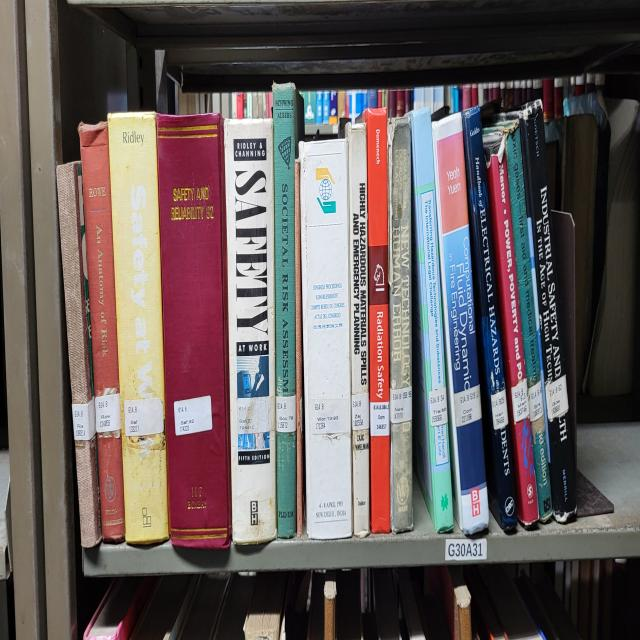Book: (156, 114, 231, 547), (108, 111, 169, 544), (432, 114, 489, 536), (519, 100, 576, 522), (462, 106, 518, 533), (224, 119, 276, 544), (299, 141, 352, 538), (486, 154, 539, 528), (79, 122, 125, 541), (506, 127, 552, 522), (410, 108, 452, 530), (56, 162, 101, 547), (272, 84, 304, 538), (345, 122, 370, 538), (389, 119, 414, 533), (366, 111, 390, 533)
Label: (174, 395, 212, 436), (124, 398, 164, 436), (454, 384, 481, 427), (545, 376, 569, 422), (95, 392, 121, 433), (72, 398, 95, 441), (511, 379, 529, 425), (390, 387, 412, 422), (276, 395, 296, 433), (429, 387, 448, 427), (370, 400, 390, 436), (491, 390, 509, 430), (351, 392, 369, 430), (529, 381, 544, 422)
